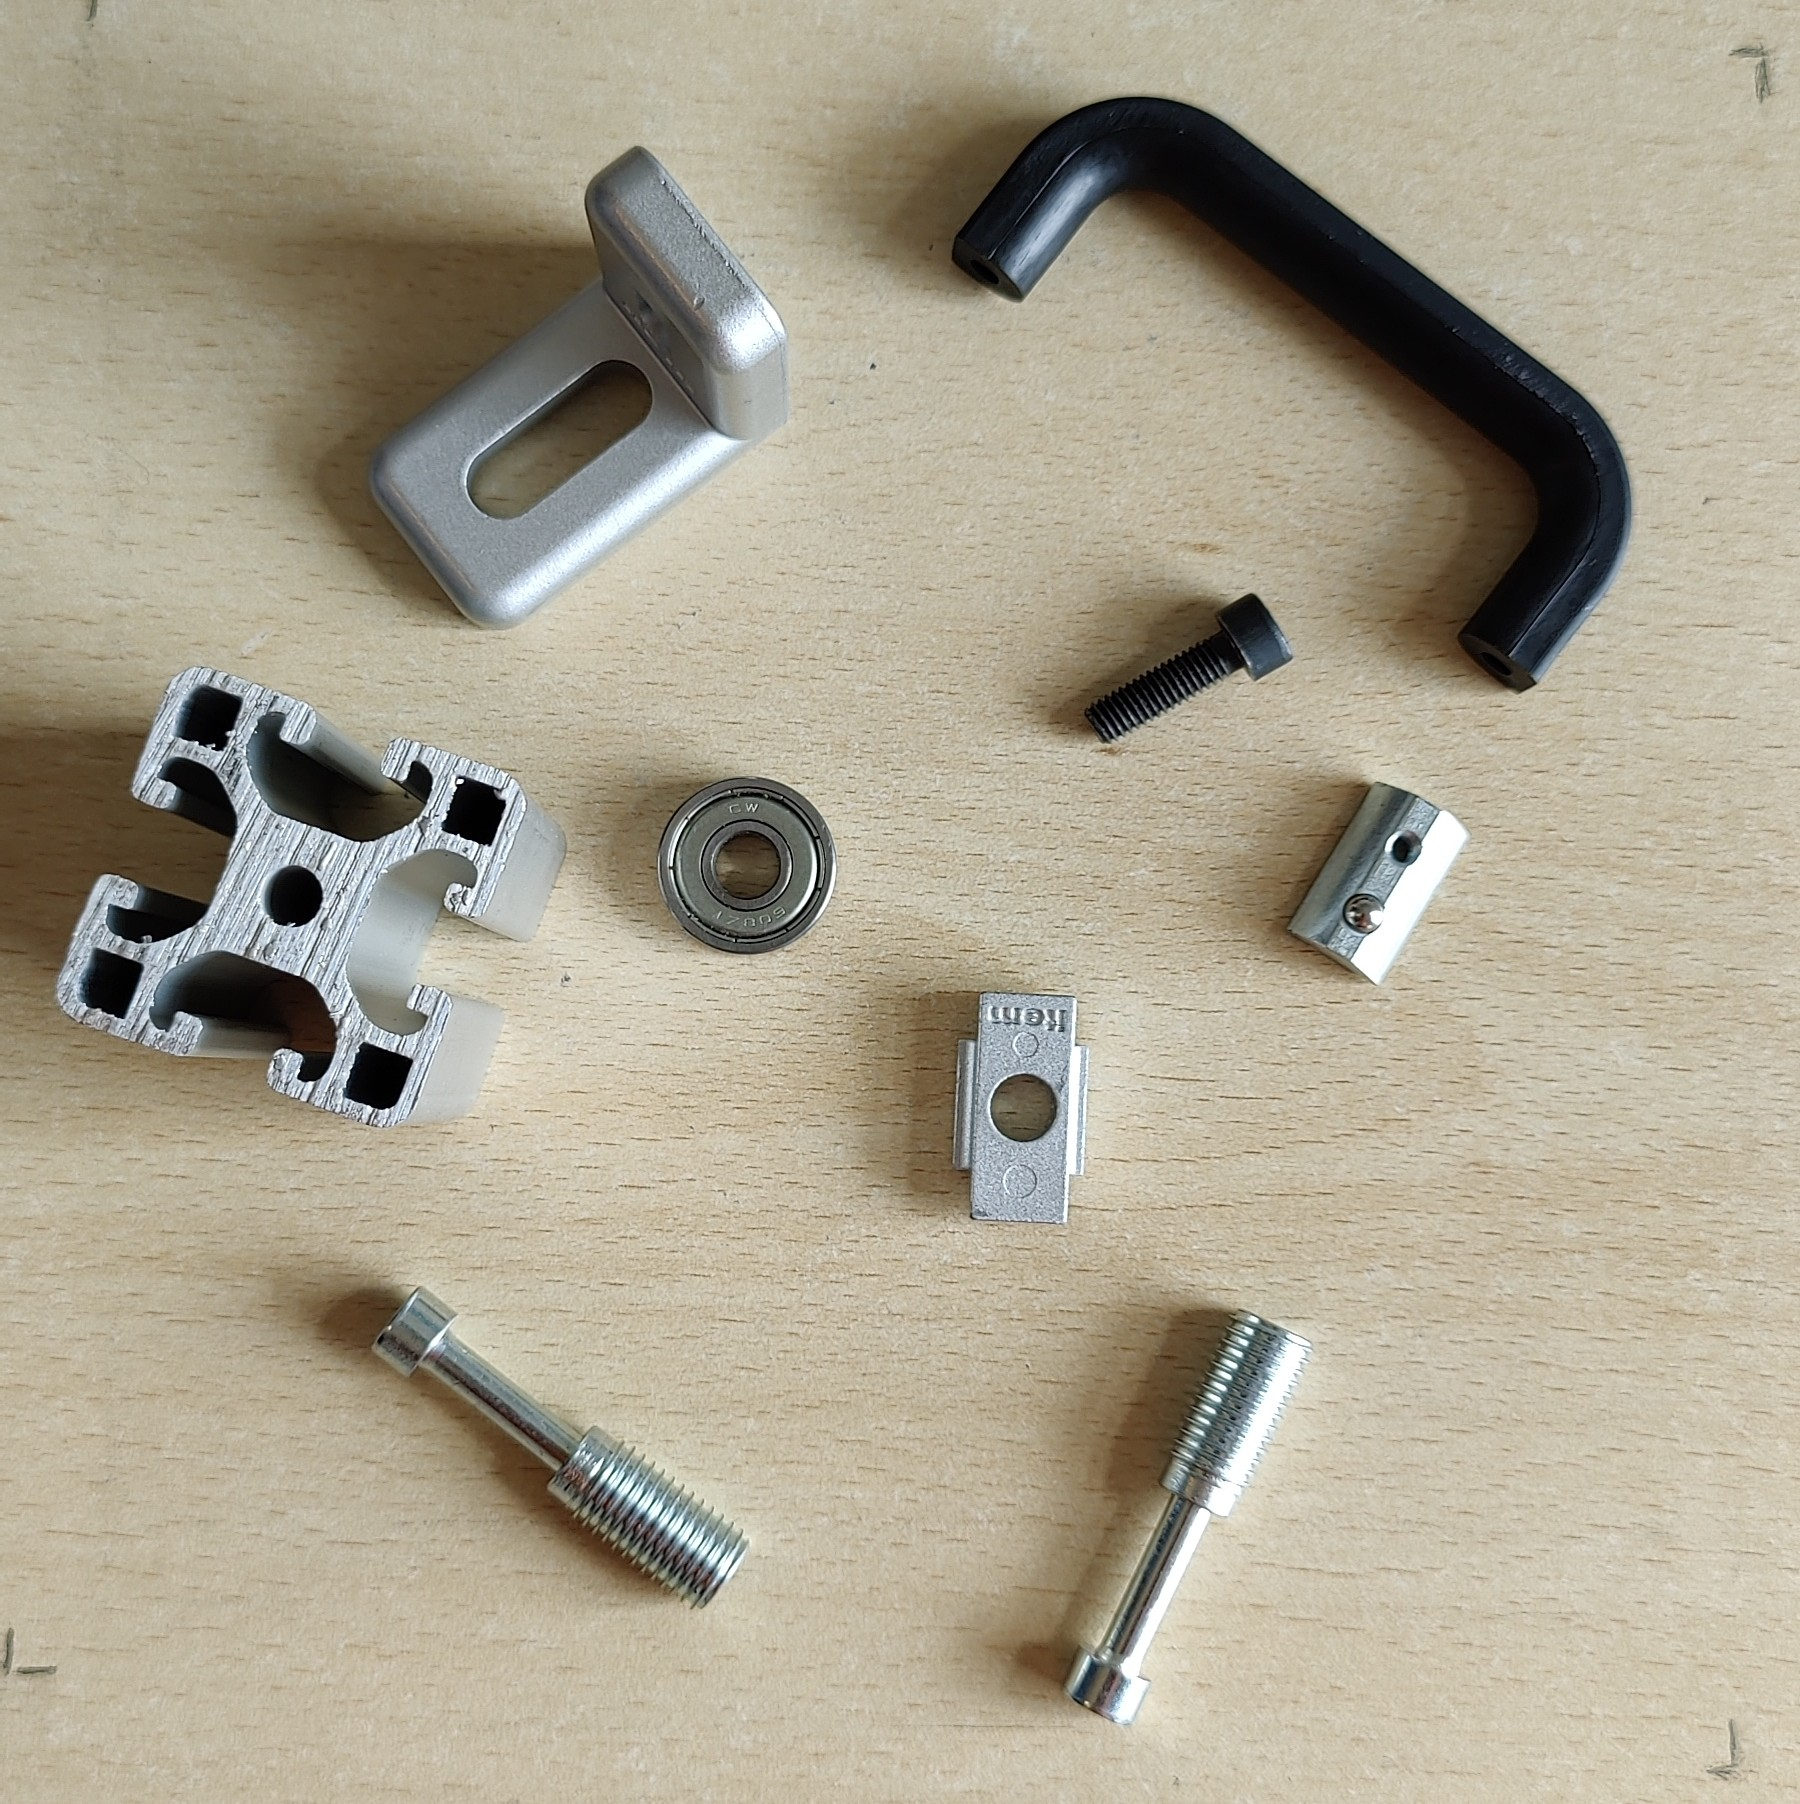Aluminium Extension: (53, 665, 569, 1133)
Ball Bearing: (651, 772, 841, 956)
Multiwinkel: (363, 143, 791, 633)
Pull Handle: (948, 91, 1637, 694)
Shoulder Socket Head Cap Screw: (368, 1286, 752, 1609), (1058, 1304, 1310, 1733)
Socket Head Cap Screw: (1080, 589, 1297, 749)
T Nut Square: (948, 984, 1091, 1229)
T Spring Nut: (1282, 782, 1470, 988)
